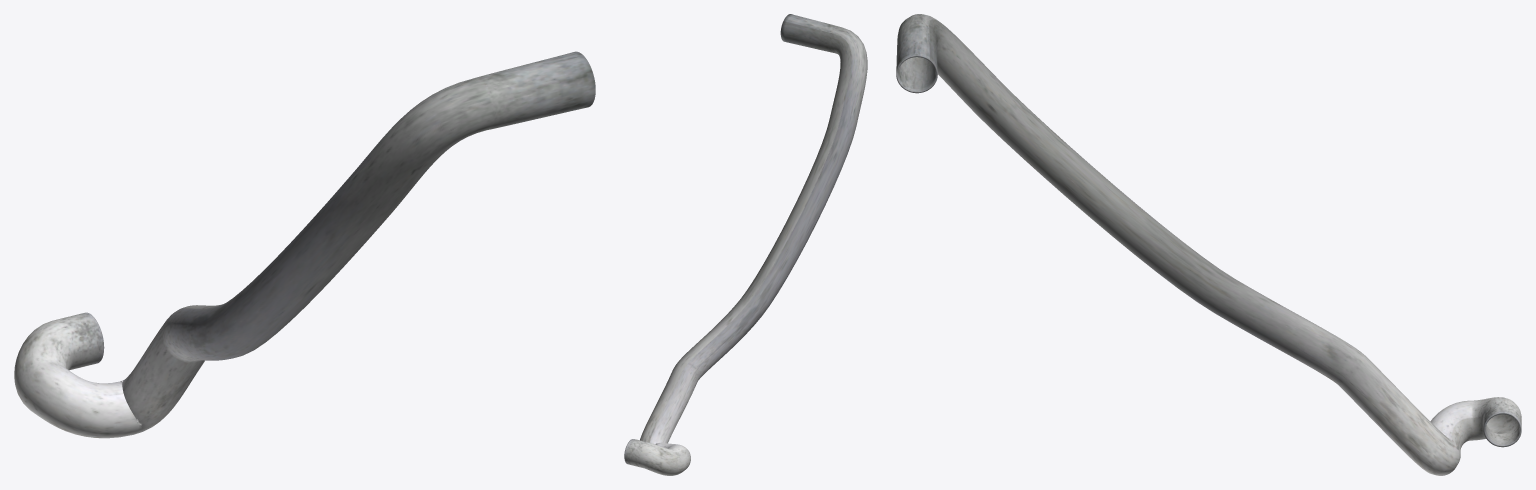
File: intercooler_manifold_weber_tube.fbx
3 renders of one model, left to right at view 1: azimuth 30°, elevation 25°; view 2: azimuth 150°, elevation 25°; view 3: azimuth 270°, elevation 25°, orthographic. The views are drawn at different scales.
Parts seen in each view (by area): view 1: intercooler_manifold_weber_tube; view 2: intercooler_manifold_weber_tube; view 3: intercooler_manifold_weber_tube.
Boxes of the visible parts, x1,y1,x2,y2 form: intercooler_manifold_weber_tube: [14, 51, 595, 438]; intercooler_manifold_weber_tube: [624, 14, 867, 475]; intercooler_manifold_weber_tube: [896, 14, 1521, 475].
Size of the model in its own units: 17.69 by 55.9 by 70.26.
1 material, 1 textured.
